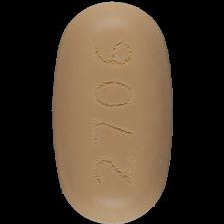63629-4185: (0, 0, 224, 224)
